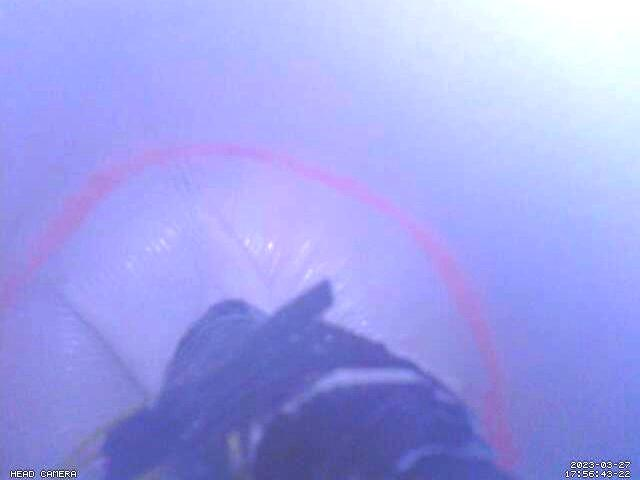head: (1, 141, 514, 480)
